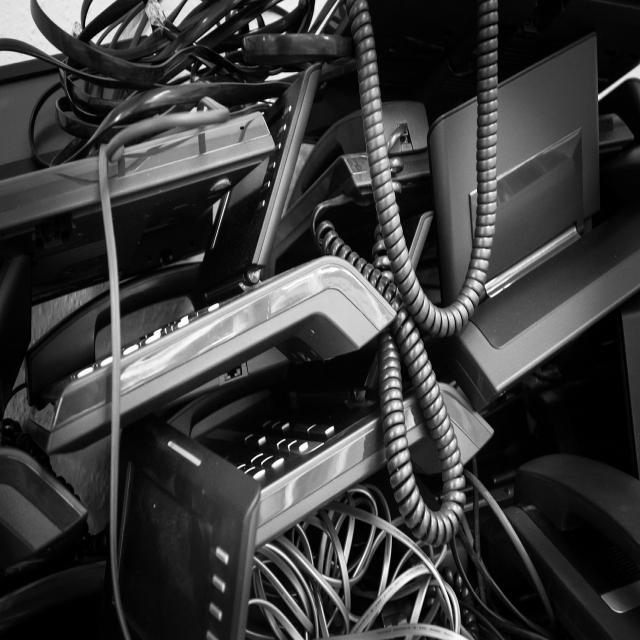hazard: (25, 18, 640, 640)
